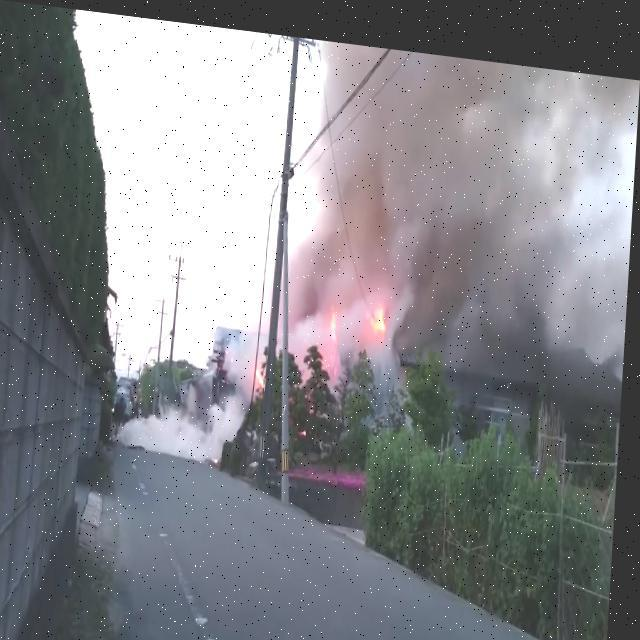Fire: (373, 294, 389, 318), (256, 360, 270, 379), (333, 294, 342, 318)
